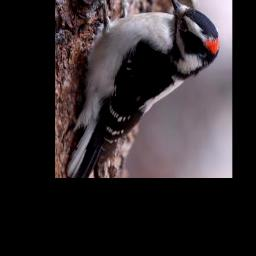Woodpecker: (65, 0, 223, 176)
